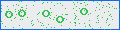o: (17, 10, 26, 18), (80, 8, 88, 15), (56, 16, 64, 23), (42, 10, 50, 17), (5, 11, 12, 18)
